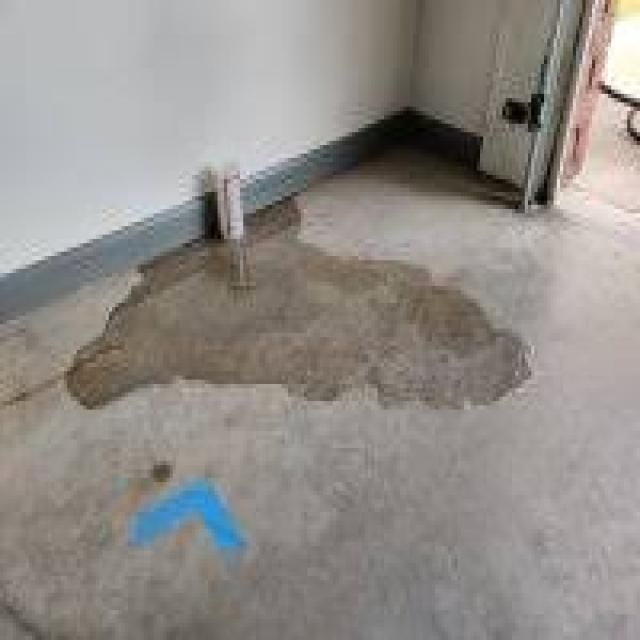water accumulation: (61, 196, 528, 408)
